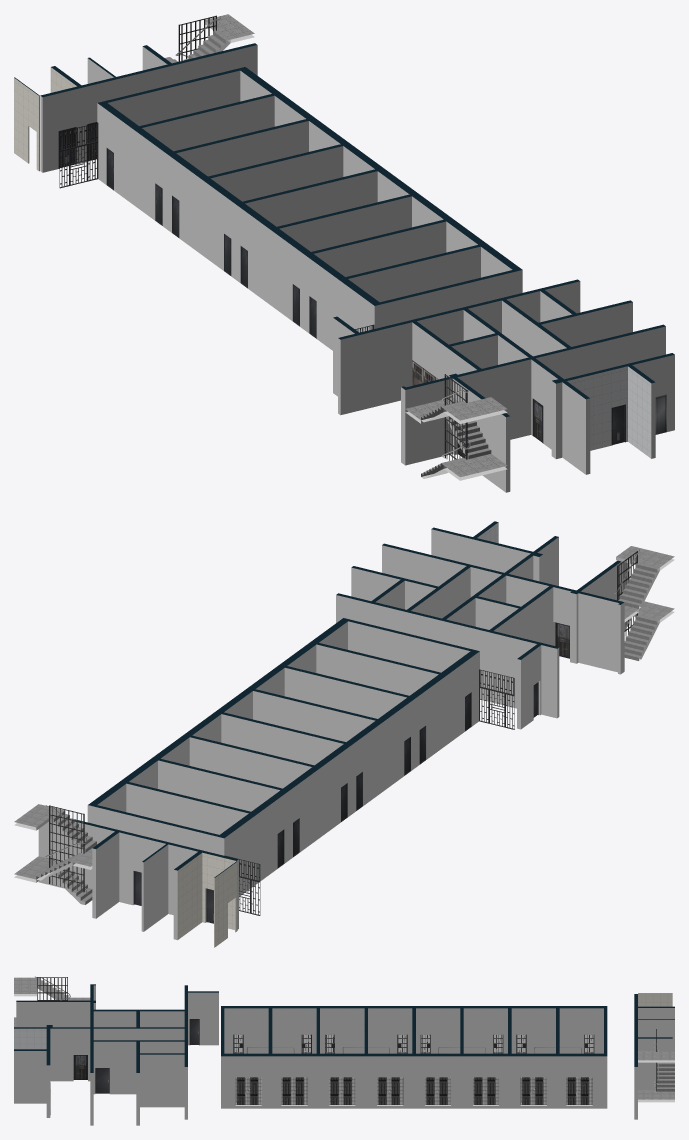
File: hkjls_hkjls_f03_in_T005.obj
3 renders of one model, top to bottom at view 1: azimuth 30°, elevation 25°; view 2: azimuth 150°, elevation 25°; view 3: azimuth 270°, elevation 25°, orthographic. The views are drawn at different scales.
Parts seen in each view (by area): view 1: hkjls_hkjls_f03_in_001_H005, hkjls_hkjls_f03_in_008_H005, hkjls_hkjls_f03_in_002_H005, hkjls_hkjls_f03_in_012_H005, hkjls_hkjls_f03_in_003_H005, hkjls_hkjls_f03_in_013_H005, hkjls_hkjls_f03_in_011_H005, hkjls_hkjls_f03_in_010_H005, hkjls_hkjls_f03_in_004_H005; view 2: hkjls_hkjls_f03_in_001_H005, hkjls_hkjls_f03_in_008_H005, hkjls_hkjls_f03_in_003_H005, hkjls_hkjls_f03_in_011_H005, hkjls_hkjls_f03_in_012_H005, hkjls_hkjls_f03_in_013_H005, hkjls_hkjls_f03_in_010_H005, hkjls_hkjls_f03_in_004_H005; view 3: hkjls_hkjls_f03_in_001_H005, hkjls_hkjls_f03_in_008_H005, hkjls_hkjls_f03_in_ch_T015, hkjls_hkjls_f03_in_012_H005, hkjls_hkjls_f03_in_011_H005, hkjls_hkjls_f03_in_002_H005, hkjls_hkjls_f03_in_013_H005, hkjls_hkjls_f03_in_003_H005, hkjls_hkjls_f03_in_010_H005, hkjls_hkjls_f03_in_009_H005, hkjls_hkjls_f03_in_003_l_T001, hkjls_hkjls_f03_in_006_l_T001.
Boxes of the visible parts, x1,y1,x2,y2 form: hkjls_hkjls_f03_in_001_H005: (40, 21, 674, 492); hkjls_hkjls_f03_in_008_H005: (14, 43, 674, 417); hkjls_hkjls_f03_in_002_H005: (567, 366, 651, 458); hkjls_hkjls_f03_in_012_H005: (165, 14, 507, 477); hkjls_hkjls_f03_in_003_H005: (14, 67, 76, 171); hkjls_hkjls_f03_in_013_H005: (58, 15, 625, 459); hkjls_hkjls_f03_in_011_H005: (165, 30, 491, 476); hkjls_hkjls_f03_in_010_H005: (180, 16, 466, 460); hkjls_hkjls_f03_in_004_H005: (60, 123, 372, 332); hkjls_hkjls_f03_in_001_H005: (14, 529, 674, 939); hkjls_hkjls_f03_in_008_H005: (74, 521, 623, 877); hkjls_hkjls_f03_in_003_H005: (177, 852, 237, 947); hkjls_hkjls_f03_in_011_H005: (36, 562, 659, 904); hkjls_hkjls_f03_in_012_H005: (14, 546, 674, 879); hkjls_hkjls_f03_in_013_H005: (49, 551, 637, 922); hkjls_hkjls_f03_in_010_H005: (50, 551, 637, 891); hkjls_hkjls_f03_in_004_H005: (239, 670, 514, 914); hkjls_hkjls_f03_in_001_H005: (14, 985, 674, 1125); hkjls_hkjls_f03_in_008_H005: (14, 984, 674, 1072); hkjls_hkjls_f03_in_ch_T015: (235, 1077, 592, 1104); hkjls_hkjls_f03_in_012_H005: (14, 977, 674, 1099); hkjls_hkjls_f03_in_011_H005: (37, 978, 674, 1091); hkjls_hkjls_f03_in_002_H005: (14, 1028, 46, 1049); hkjls_hkjls_f03_in_013_H005: (37, 977, 656, 1093); hkjls_hkjls_f03_in_003_H005: (638, 993, 672, 1006); hkjls_hkjls_f03_in_010_H005: (38, 977, 67, 1000); hkjls_hkjls_f03_in_009_H005: (35, 976, 658, 1087); hkjls_hkjls_f03_in_003_l_T001: (74, 1055, 87, 1079); hkjls_hkjls_f03_in_006_l_T001: (96, 1068, 108, 1093).
Size of the model in its own units: 1446 by 525 by 4556.
19 materials, 19 textured.
